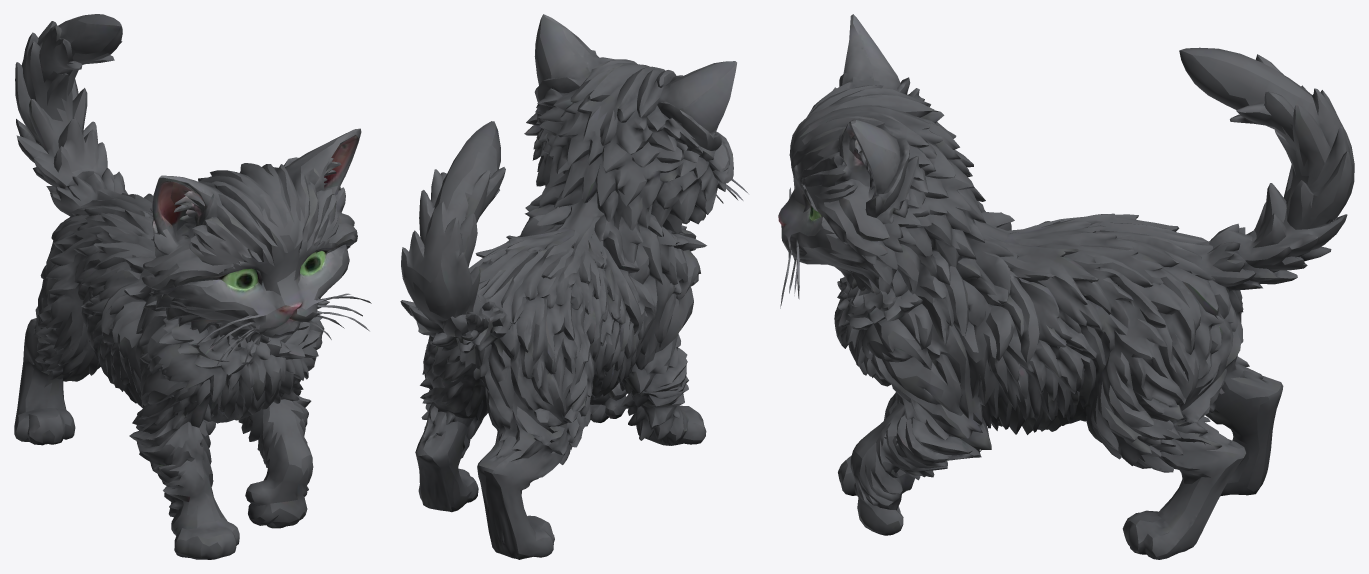
Rendered from coco-walk.glb.
3 renders of one model, left to right at view 1: azimuth 30°, elevation 25°; view 2: azimuth 150°, elevation 25°; view 3: azimuth 270°, elevation 25°, orthographic. The views are drawn at different scales.
Parts seen in each view (by area): view 1: geometry_0; view 2: geometry_0; view 3: geometry_0.
Part boxes in pixels (x1,y1,x2,y2): geometry_0: (14,14,371,559); geometry_0: (400,14,748,559); geometry_0: (778,14,1354,559).
Bounding box in the file's own units: 0.5242 × 1 × 1.12.
1 material, 1 textured.
